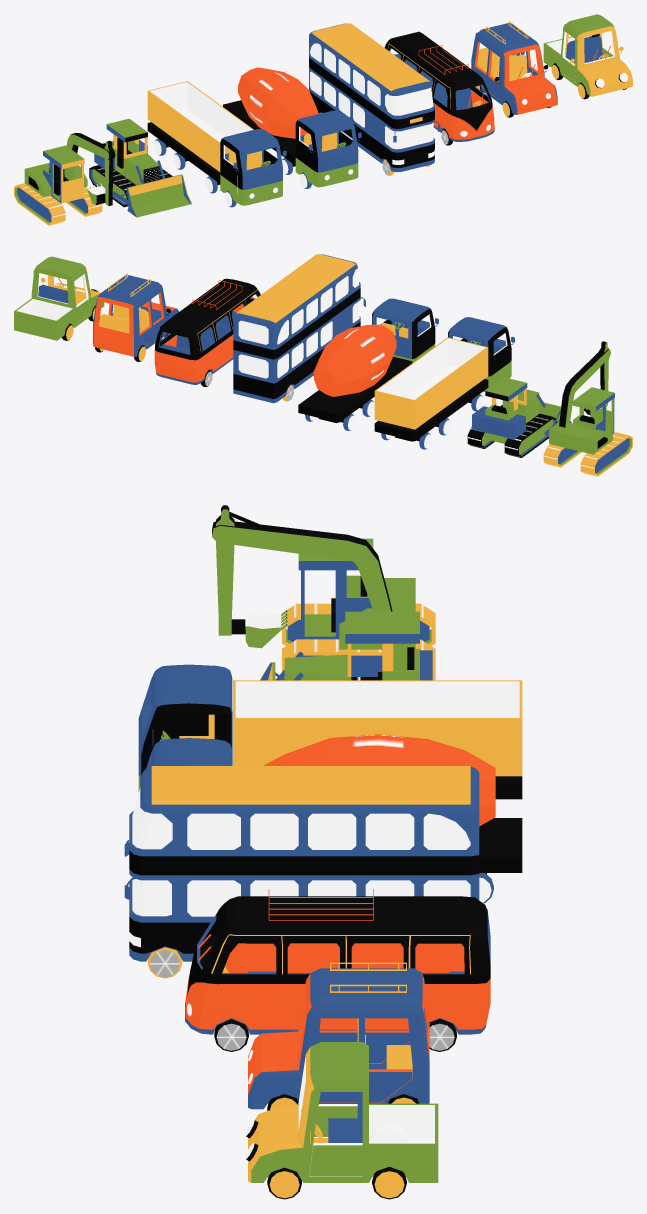
The model's file is car modle.fbx.
3 renders of one model, top to bottom at view 1: azimuth 30°, elevation 25°; view 2: azimuth 150°, elevation 25°; view 3: azimuth 270°, elevation 25°, orthographic. The views are drawn at different scales.
Parts seen in each view (by area): view 1: car_4, Cube_2, car_3, car_2, car_1_2, car_1, Loft, car, glass, car_5, car_6, kinfe (+10 smaller); view 2: car_4, Cube_2, car_3, Loft, car_5, car_1, car, car_2, glass, car_1_2, car_6, wheel (+8 smaller); view 3: car_4, car_3, Cube_2, glass, car, car_2, car_1_2, Loft, car_5, arm, car_6, car_1 (+13 smaller).
Part boxes in pixels (left/top/right/bottom): car_4: left=309, top=23, right=440, bottom=172; Cube_2: left=147, top=81, right=253, bottom=171; car_3: left=384, top=31, right=494, bottom=141; car_2: left=471, top=21, right=557, bottom=114; car_1_2: left=147, top=122, right=286, bottom=205; car_1: left=223, top=100, right=361, bottom=187; Loft: left=238, top=67, right=318, bottom=138; car: left=543, top=14, right=632, bottom=96; glass: left=310, top=43, right=433, bottom=149; car_5: left=89, top=118, right=172, bottom=207; car_6: left=24, top=145, right=87, bottom=203; kinfe: left=126, top=174, right=191, bottom=217; car_4: left=233, top=254, right=365, bottom=403; Cube_2: left=374, top=337, right=488, bottom=429; car_3: left=154, top=278, right=260, bottom=384; Loft: left=313, top=324, right=396, bottom=396; car_5: left=467, top=377, right=556, bottom=457; car_1: left=298, top=298, right=438, bottom=423; car: left=14, top=256, right=104, bottom=340; car_2: left=93, top=273, right=178, bottom=356; glass: left=238, top=269, right=359, bottom=378; car_1_2: left=374, top=317, right=514, bottom=441; car_6: left=549, top=387, right=614, bottom=454; wheel: left=543, top=432, right=632, bottom=476; car_4: left=124, top=766, right=479, bottom=961; car_3: left=185, top=889, right=490, bottom=1034; Cube_2: left=233, top=680, right=522, bottom=776; glass: left=132, top=787, right=470, bottom=916; car: left=244, top=1042, right=438, bottom=1182; car_2: left=248, top=962, right=429, bottom=1109; car_1_2: left=137, top=664, right=522, bottom=799; Loft: left=263, top=734, right=495, bottom=826; car_5: left=284, top=611, right=432, bottom=680; arm: left=212, top=521, right=392, bottom=611; car_6: left=298, top=538, right=415, bottom=649; car_1: left=138, top=738, right=522, bottom=873.
Bounding box in the file's own units: 2306 × 334 × 687.
